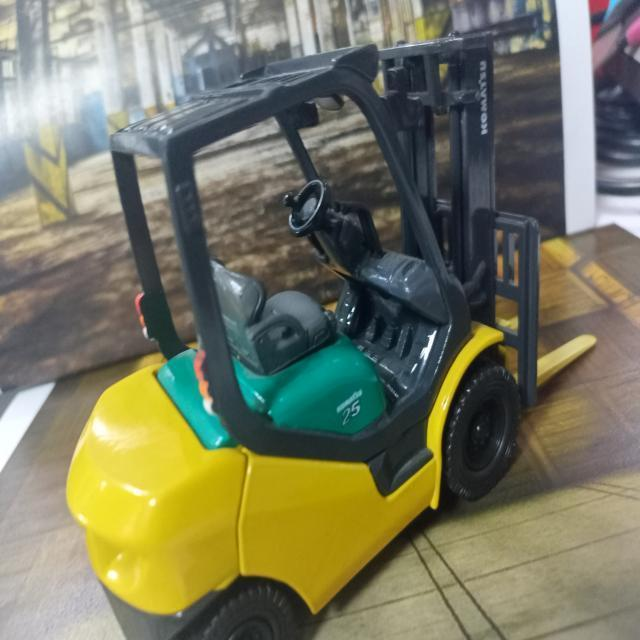forklift: (65, 18, 502, 640)
